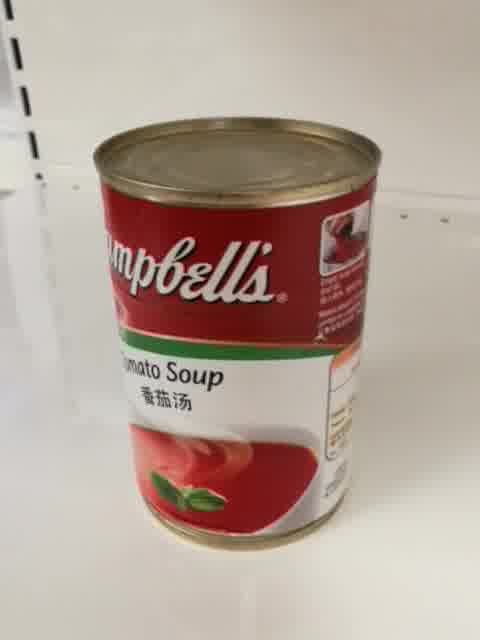tomatosoup: (91, 113, 383, 551)
